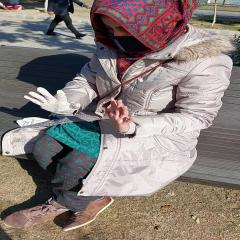gloved: (25, 88, 79, 116)
not-gloved: (104, 98, 133, 134)
